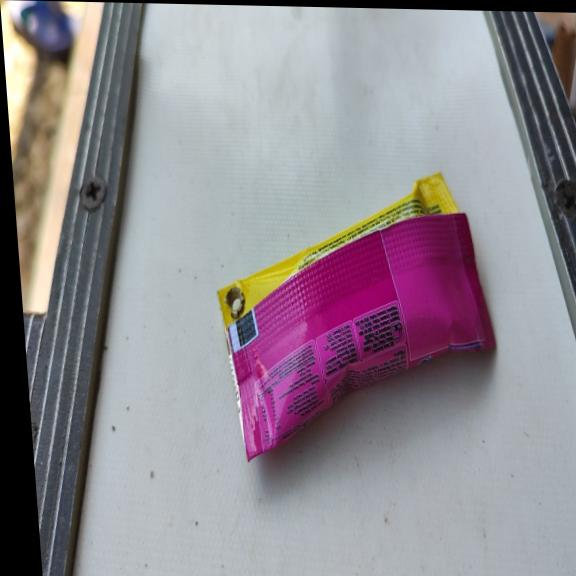Plastik: (207, 167, 506, 469)
